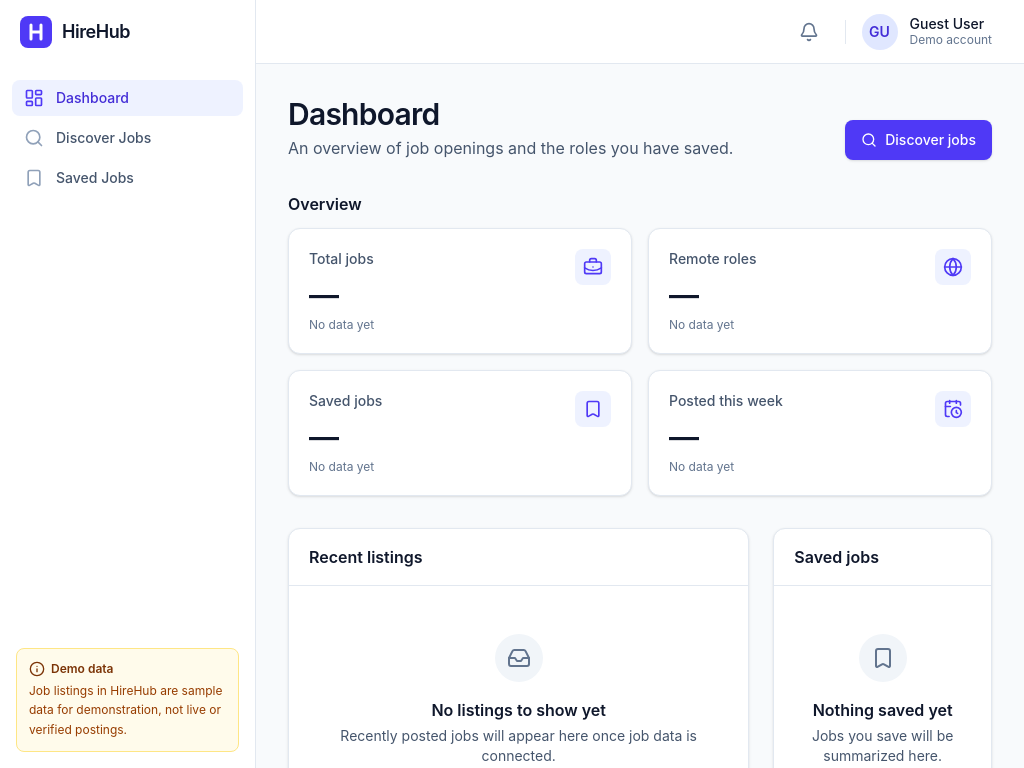
Scenario: app routing › navigates with the primary nav and marks the active link
The width and height of the screenshot is (1024, 768).
Click the link "Saved Jobs" at (79, 178), box [24,168,134,188]
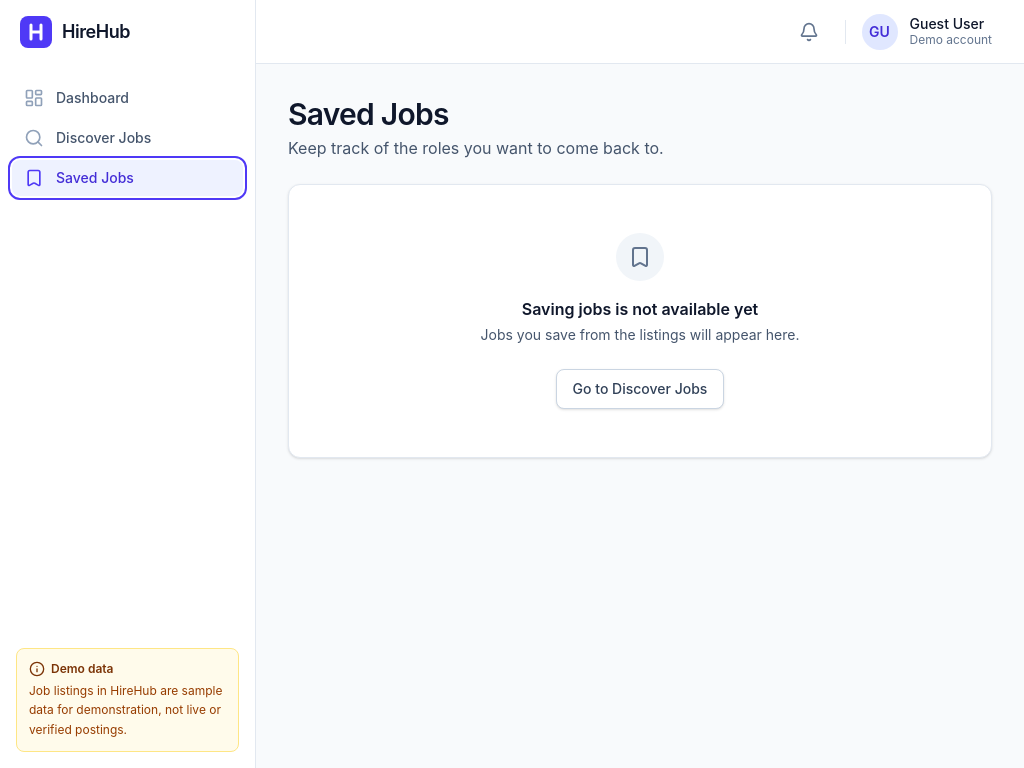
Check: the heading "Saved Jobs" is shown, box [288,96,449,132]
